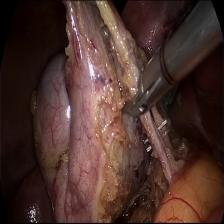Clipper: (118, 29, 172, 120)
